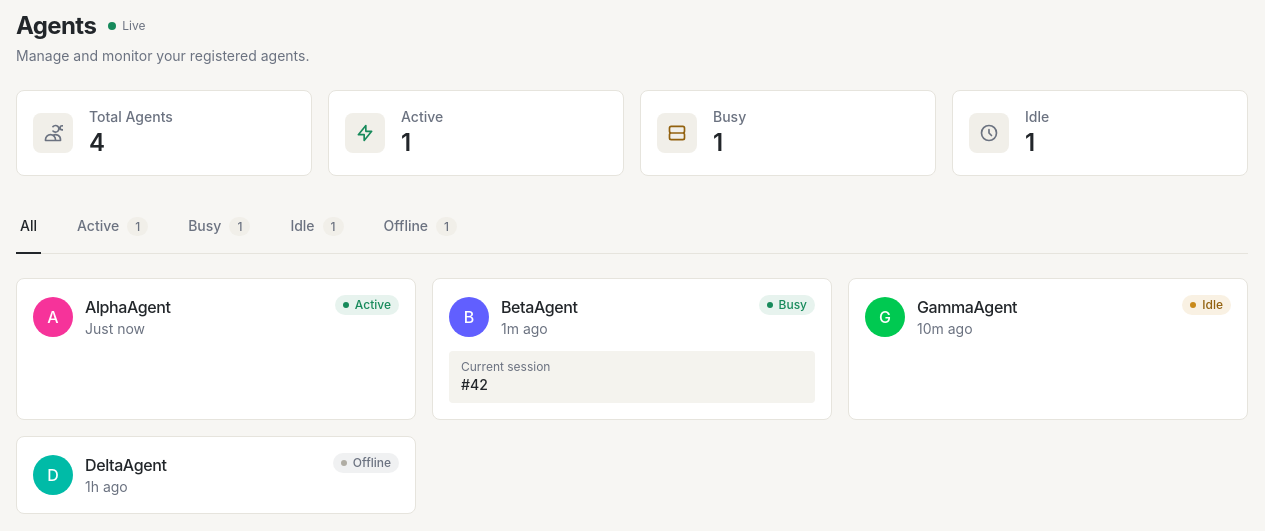
Test case: AgentsDashboard › filters to busy agents
The image size is (1265, 531).
Expected: the heading "BetaAgent" is shown, [501, 297, 578, 317]
Click on Busy filter tab (within the nav).
Click the button "Busy1" at (219,227), box [184, 200, 254, 254]
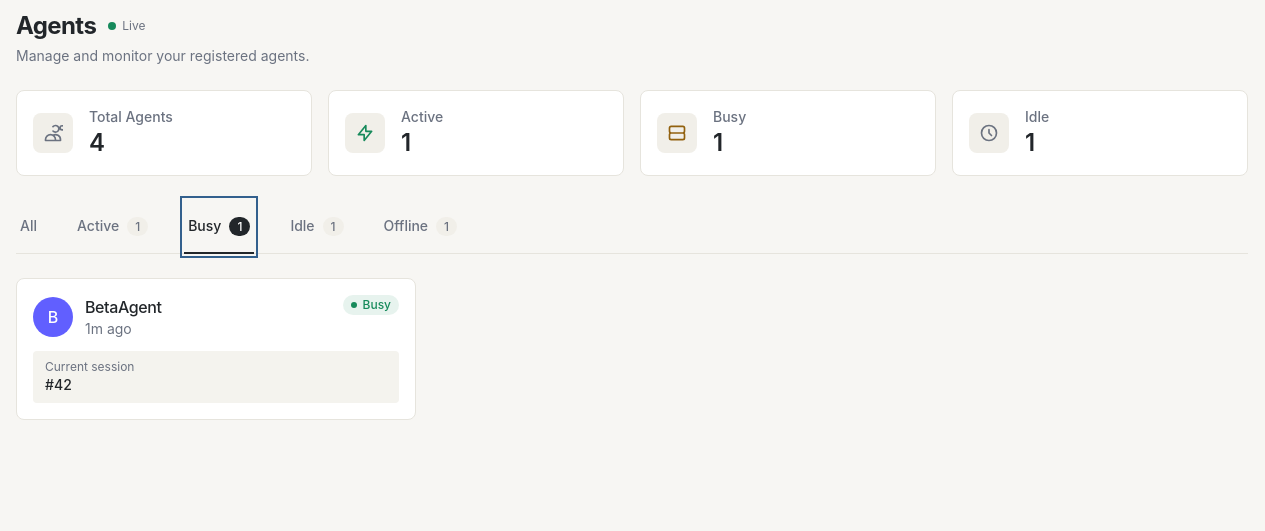
Expected: the heading "BetaAgent" is shown, [85, 297, 162, 317]
Expected: the button "AlphaAgent" is gone
